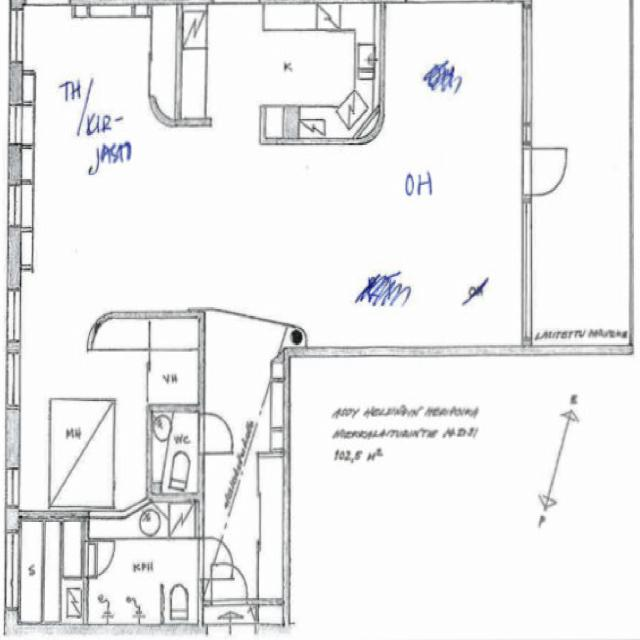door: (129, 122, 189, 196), (523, 147, 572, 198), (28, 295, 66, 349), (211, 555, 246, 605), (198, 538, 234, 578), (198, 414, 234, 454), (82, 540, 119, 578), (244, 606, 260, 621)
